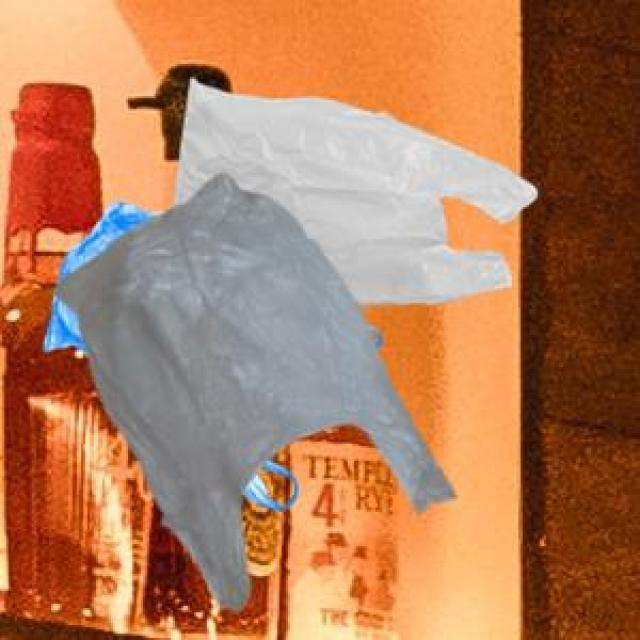waste: (49, 81, 536, 608)
